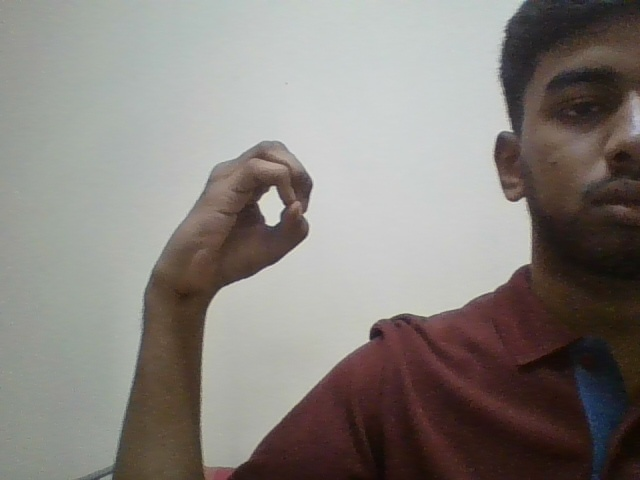O: (140, 120, 339, 326)
